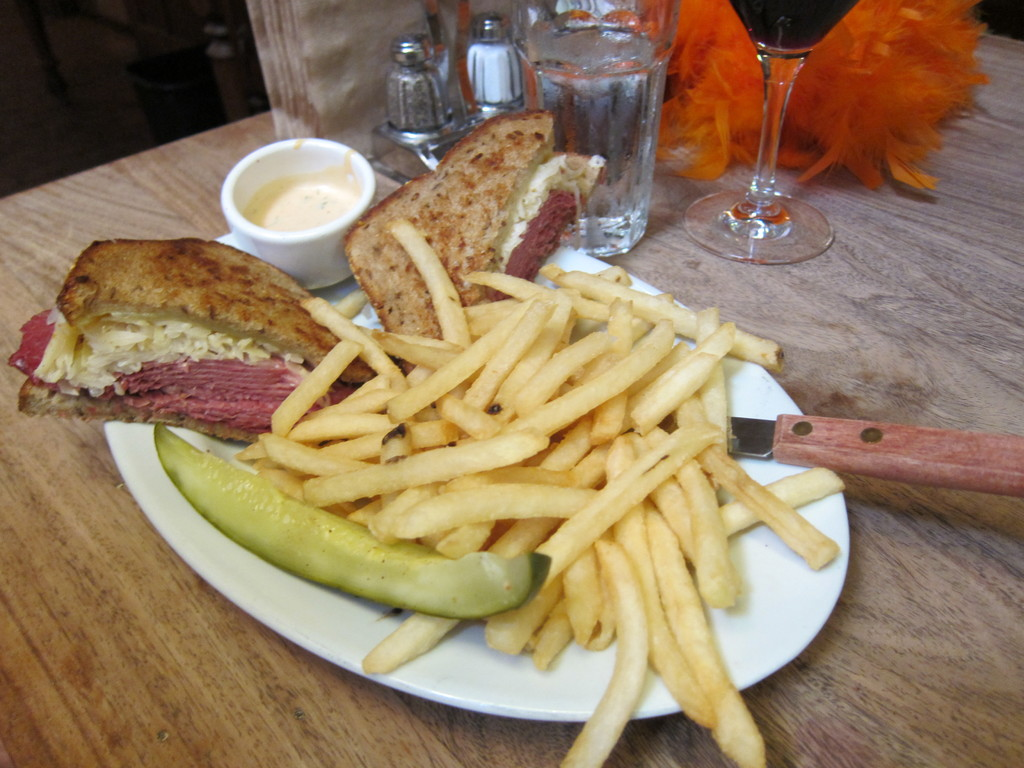French fries: (193, 249, 816, 698)
